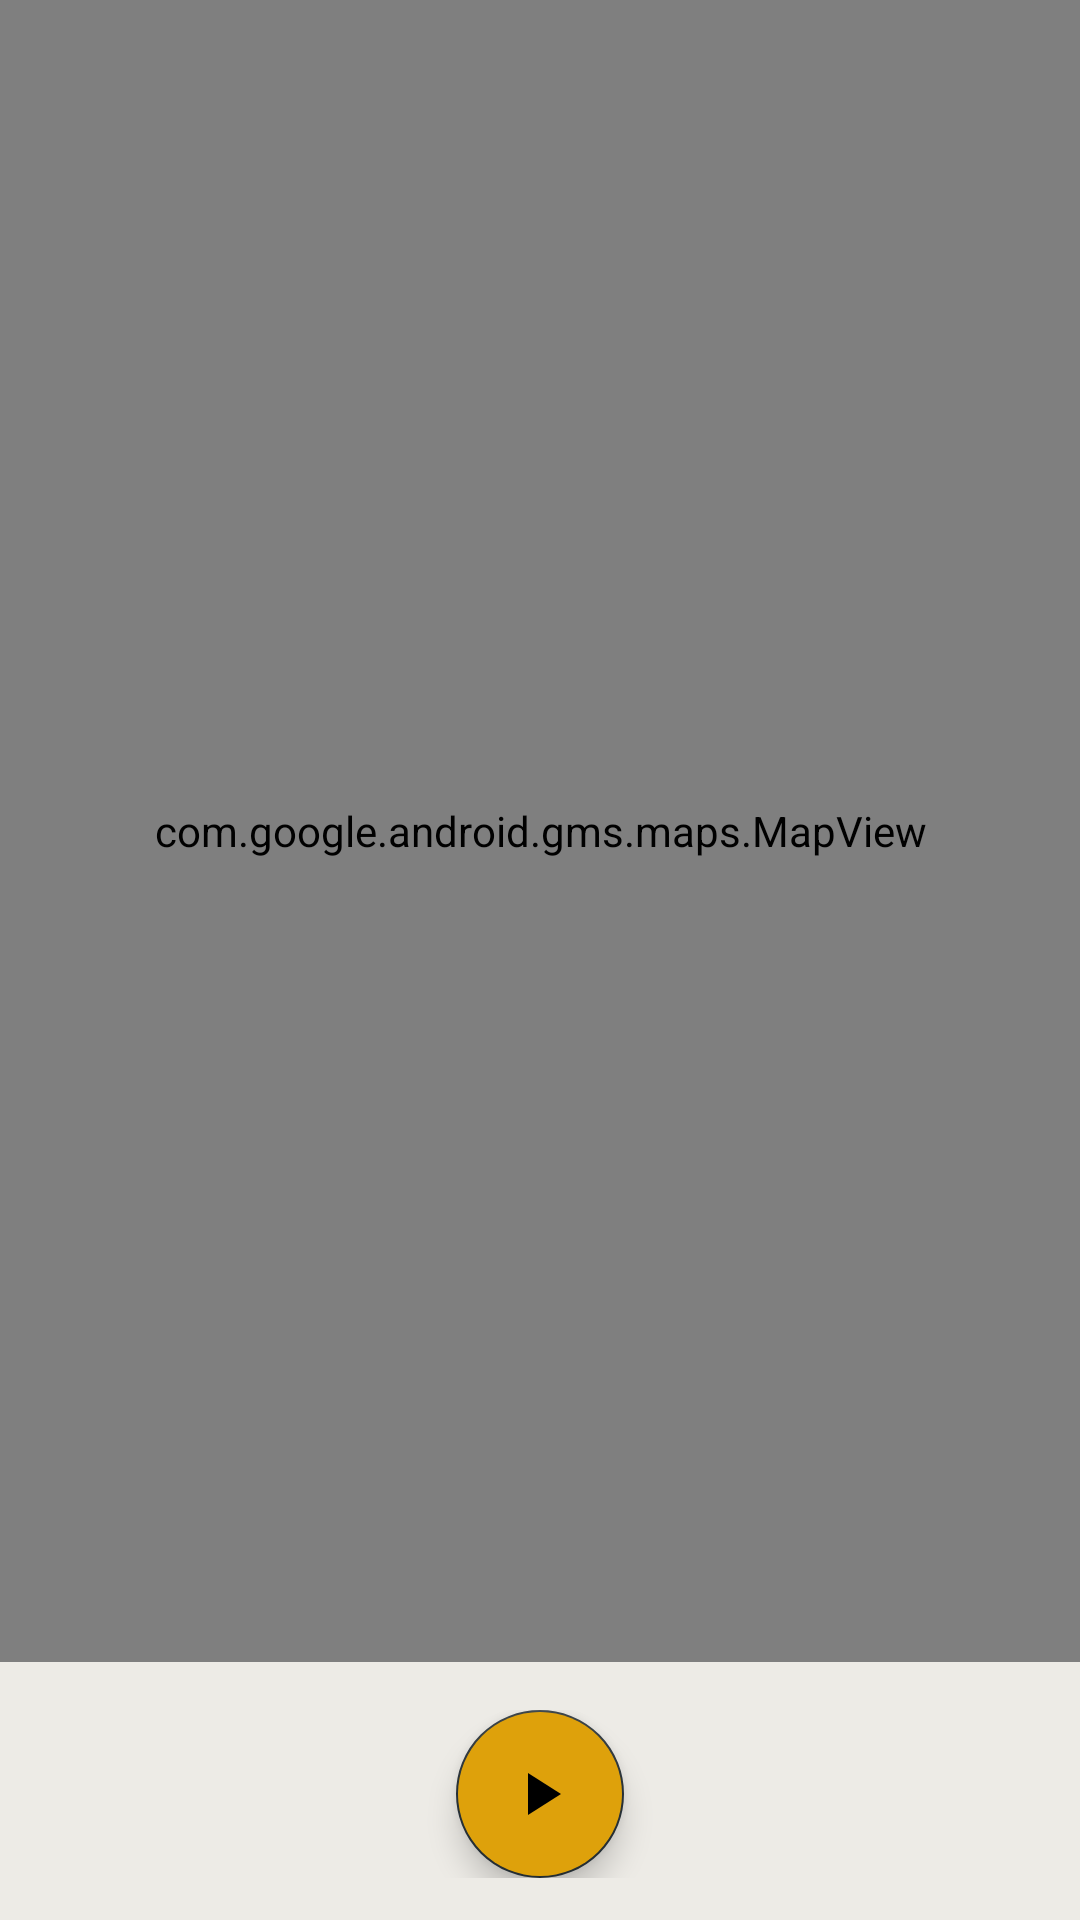

Where icons sit on this 1080w x 1920h app screen, as (x1, y1, x2, y2):
play arrow: (456, 1710, 624, 1878)
